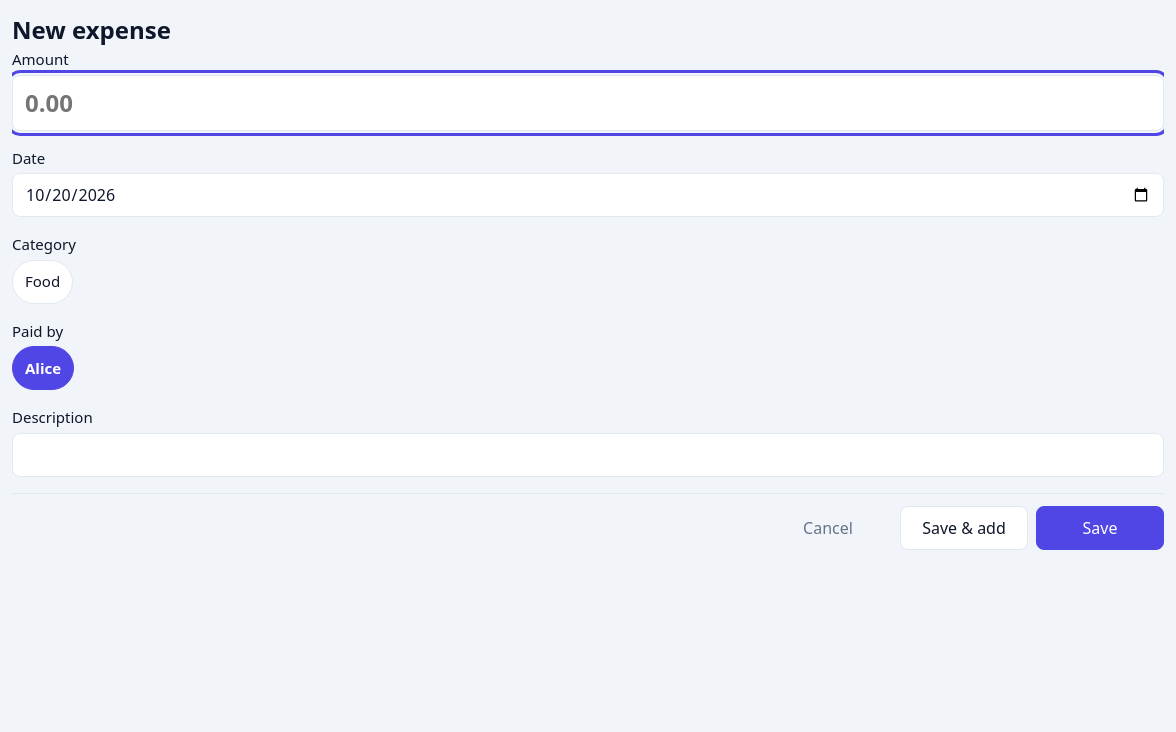
it: BudgetExpenseFormPage › refuses to save without a positive amount
This screenshot has width=1176, height=732.
Click the button "Save" at (1100, 528), box 1036,506 -> 1164,550
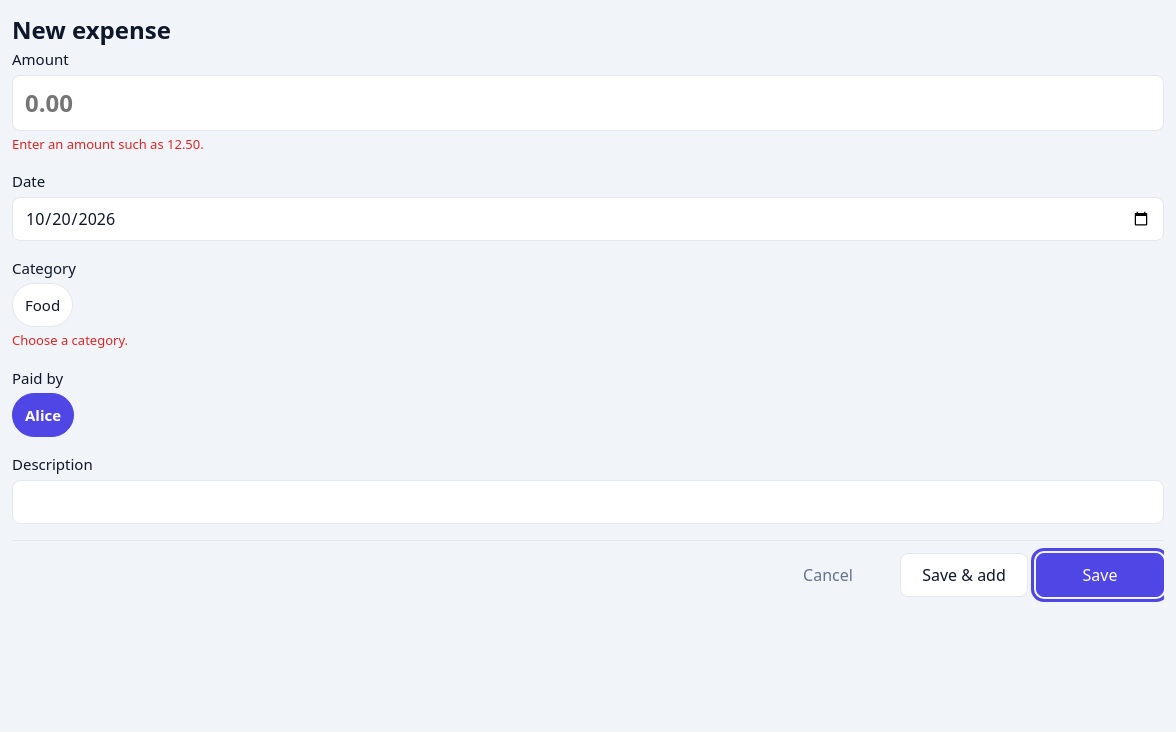
Expected: the field labelled "Amount" is shown, 12,74 -> 1164,130
Expected: the message "Enter an amount such as 12.50." is shown, 12,134 -> 204,152
